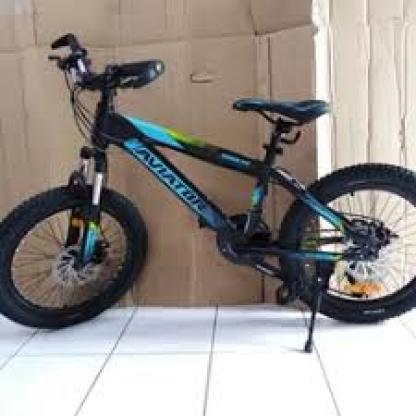Bike: (0, 31, 416, 326)
